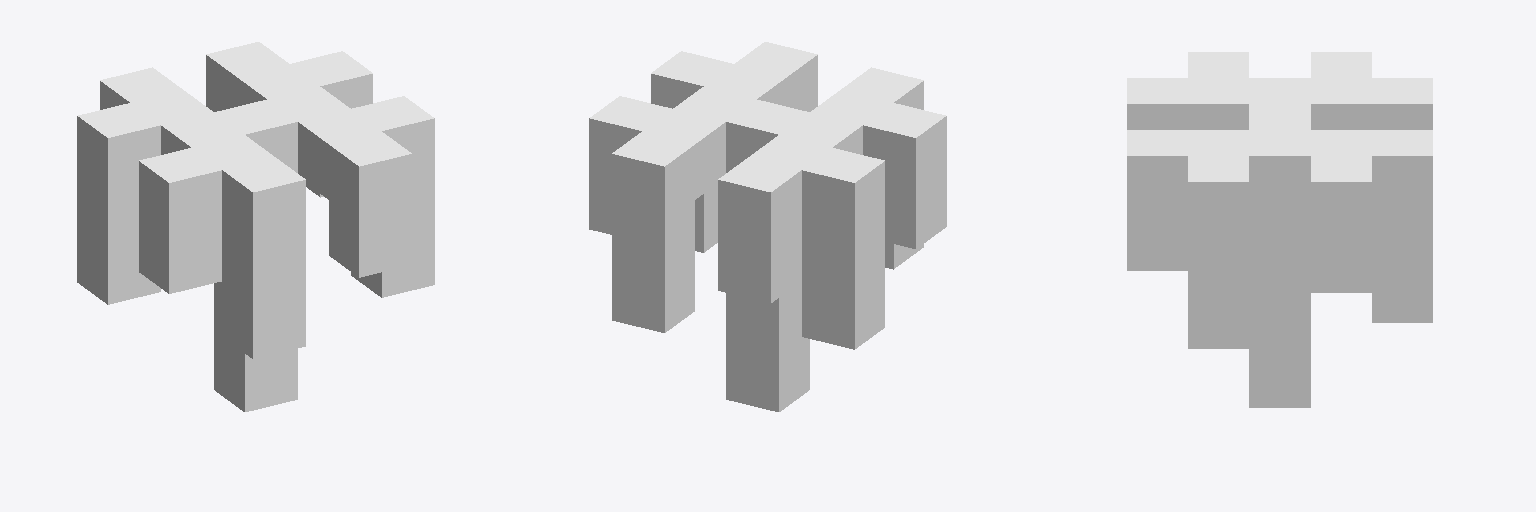
Rendered from SmallTree3.obj.
The picture shows the model from 3 angles: view 1: azimuth 30°, elevation 25°; view 2: azimuth 150°, elevation 25°; view 3: azimuth 270°, elevation 25°; orthographic projection.
Size of the model in its own units: 5 by 5 by 5.